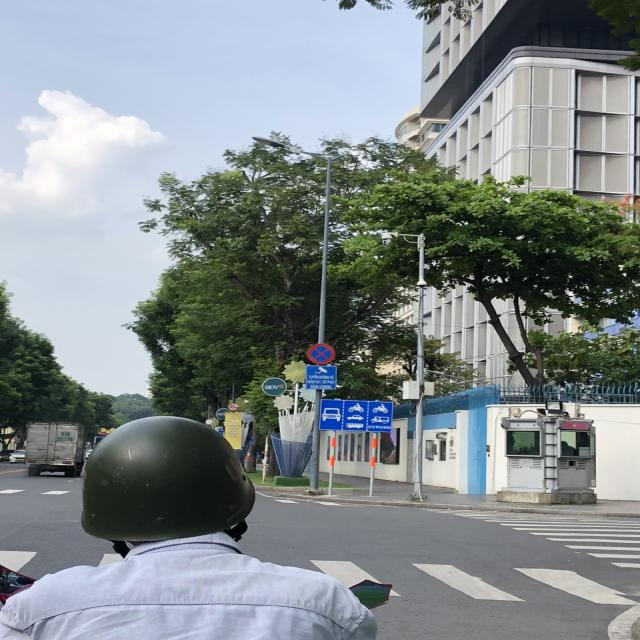Bien bao cam dung xe va do xe: (304, 340, 341, 365)
